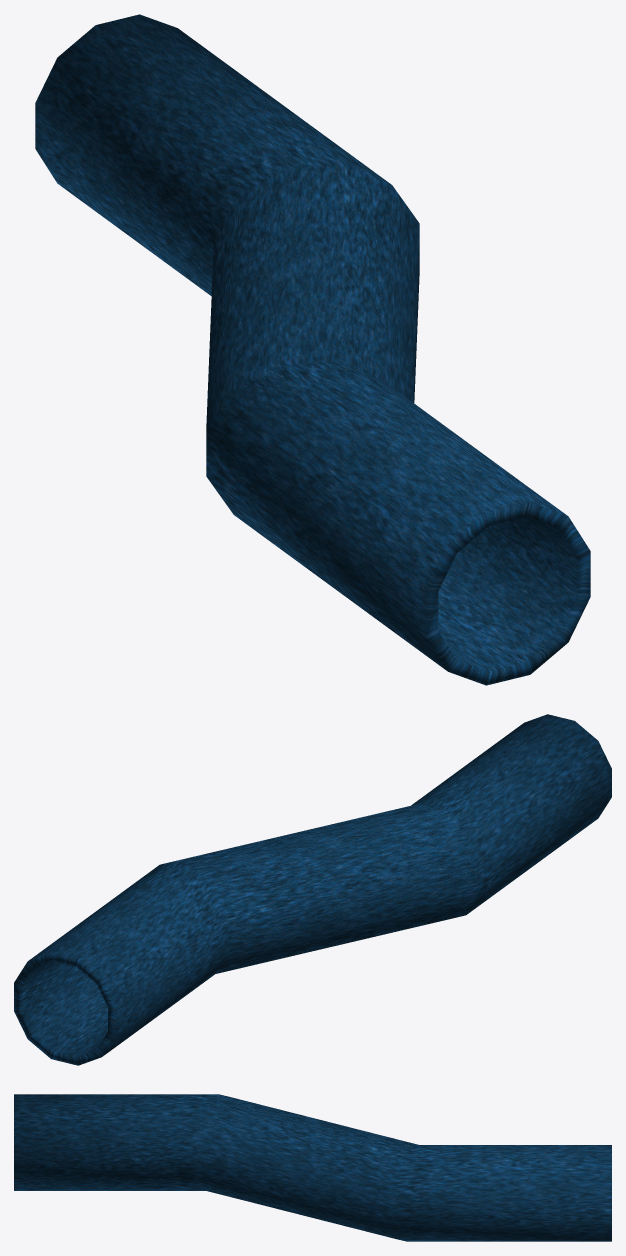
The model's file is Pipe01.fbx.
3 renders of one model, top to bottom at view 1: azimuth 30°, elevation 25°; view 2: azimuth 150°, elevation 25°; view 3: azimuth 270°, elevation 25°, orthographic. The views are drawn at different scales.
Visible parts, largest first — view 1: Pipe01; view 2: Pipe01; view 3: Pipe01.
Part boxes in pixels (<box>): Pipe01: <box>35,14,590,685</box>; Pipe01: <box>14,714,611,1065</box>; Pipe01: <box>14,1094,611,1241</box>.
Size of the model in its own units: 29.37 by 12.99 by 81.82.
